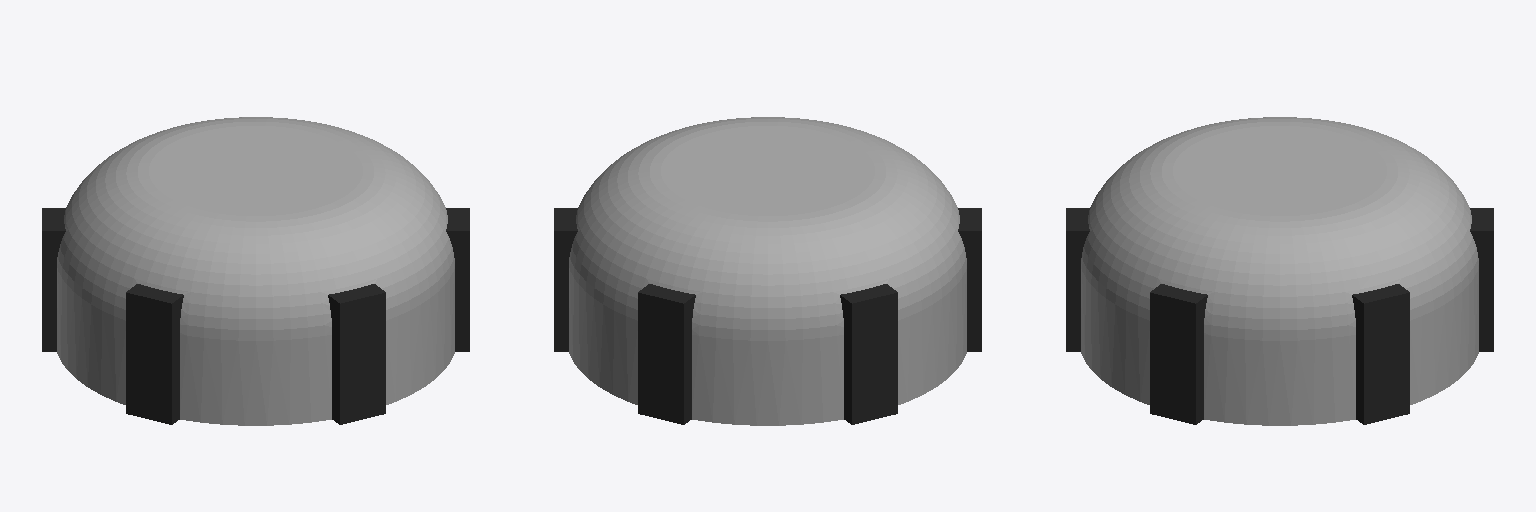
The model's file is testDroplet.obj.
The picture shows the model from 3 angles: view 1: azimuth 30°, elevation 25°; view 2: azimuth 150°, elevation 25°; view 3: azimuth 270°, elevation 25°; orthographic projection.
Parts seen in each view (by area): view 1: Actor0_ActorShape0_0-Mesh; view 2: Actor0_ActorShape0_0-Mesh; view 3: Actor0_ActorShape0_0-Mesh.
Boxes of the visible parts, <box> form: Actor0_ActorShape0_0-Mesh: <box>42,117,469,425</box>; Actor0_ActorShape0_0-Mesh: <box>554,117,981,425</box>; Actor0_ActorShape0_0-Mesh: <box>1066,117,1493,425</box>.
Size of the model in its own units: 3.81 by 1.78 by 4.06.